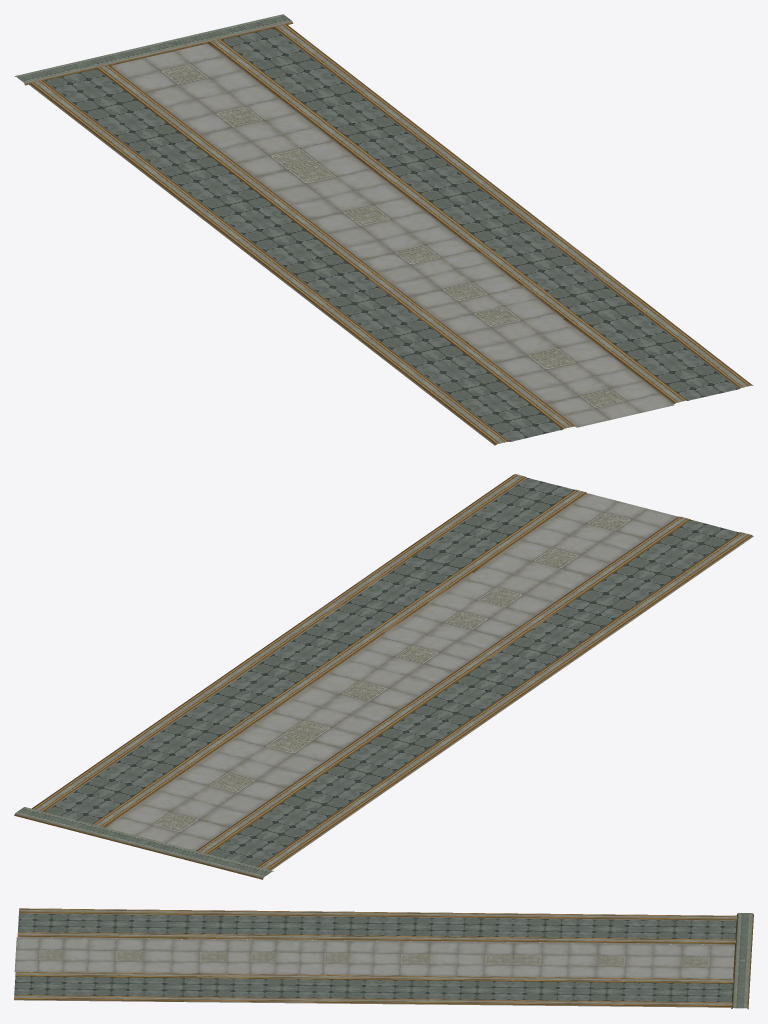
The model's file is Yland1_dm_12 Yland1.FBX.
3 renders of one model, top to bottom at view 1: azimuth 30°, elevation 25°; view 2: azimuth 150°, elevation 25°; view 3: azimuth 270°, elevation 25°, orthographic. The views are drawn at different scales.
Visible parts, largest first — view 1: Yland1_dm_12 Yland1; view 2: Yland1_dm_12 Yland1; view 3: Yland1_dm_12 Yland1.
Part boxes in pixels (bbox=[...]): Yland1_dm_12 Yland1: bbox=[14, 14, 753, 445]; Yland1_dm_12 Yland1: bbox=[14, 474, 753, 879]; Yland1_dm_12 Yland1: bbox=[14, 908, 753, 1009].
Bounding box in the file's own units: 9.37 × 0.0725 × 28.9.
